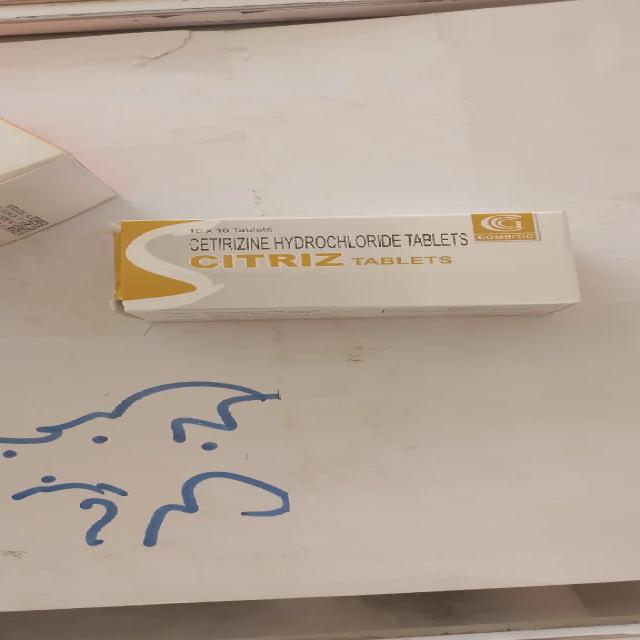drug-name: (188, 252, 346, 270)
